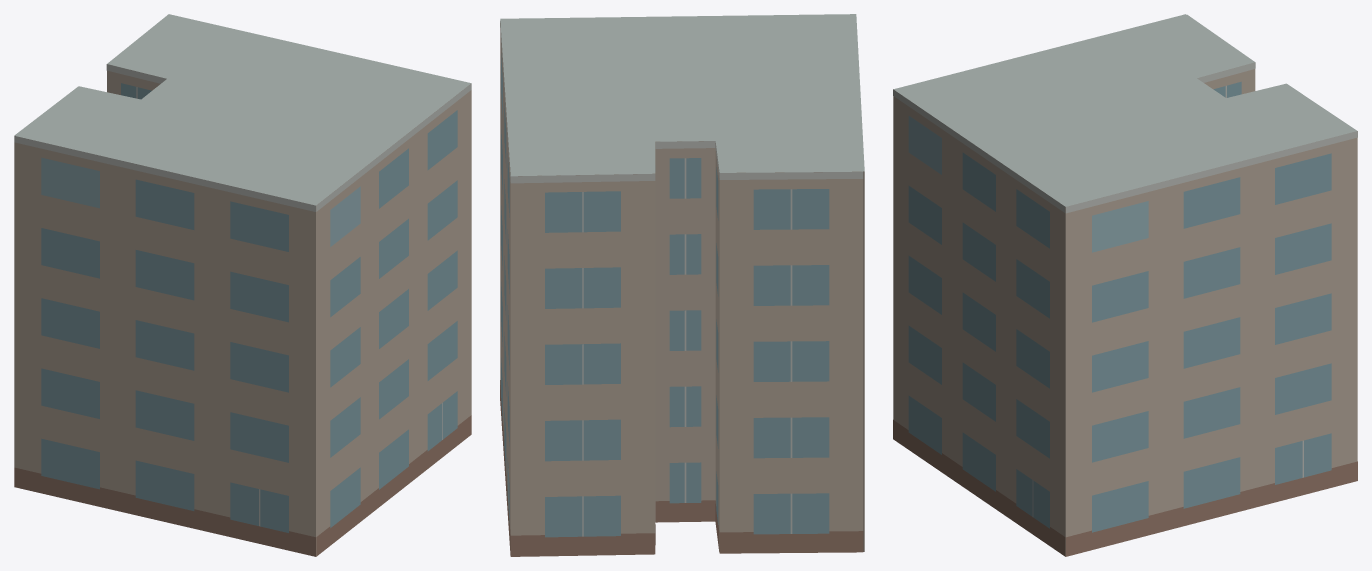
Rendered from survey-upis-32665934.glb.
3 renders of one model, left to right at view 1: azimuth 30°, elevation 25°; view 2: azimuth 150°, elevation 25°; view 3: azimuth 270°, elevation 25°, orthographic. The views are drawn at different scales.
Parts seen in each view (by area): view 1: survey-upis-32665934.tmp; view 2: survey-upis-32665934.tmp; view 3: survey-upis-32665934.tmp.
Part boxes in pixels (x1,y1,x2,y2): survey-upis-32665934.tmp: [14, 14, 471, 556]; survey-upis-32665934.tmp: [500, 14, 864, 556]; survey-upis-32665934.tmp: [893, 14, 1357, 556].
Bounding box in the file's own units: 15.38 × 13 × 15.65.
